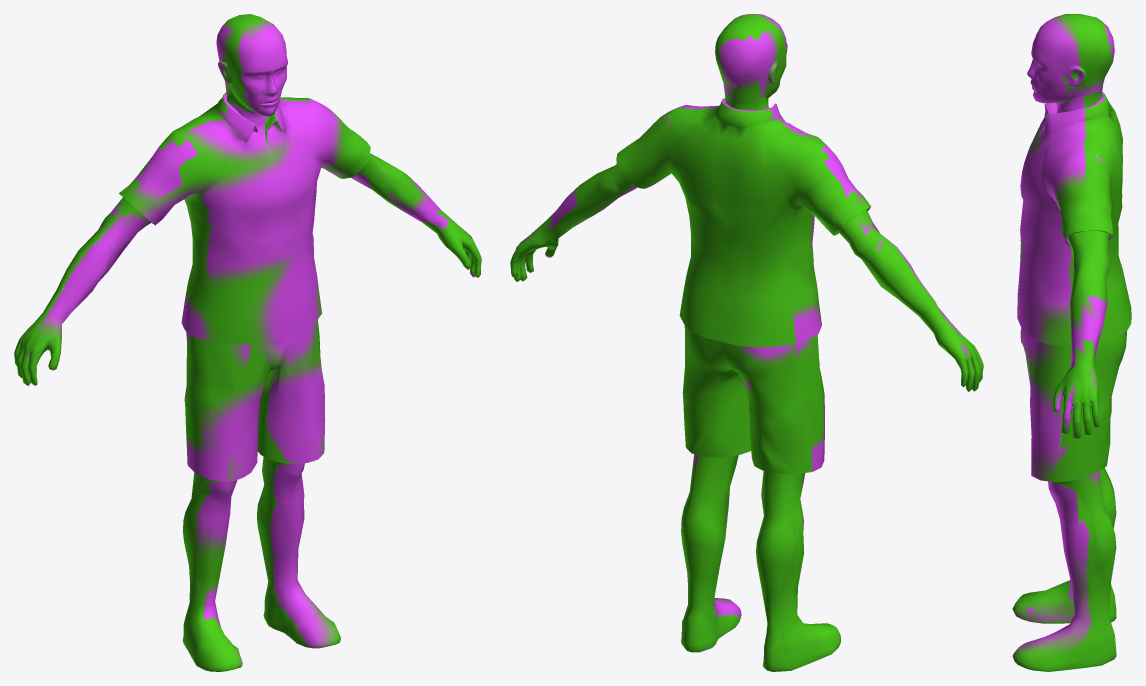
Rendered from personaje.fbx.
3 views of the same model, side by side, from view 1: azimuth 30°, elevation 25°; view 2: azimuth 150°, elevation 25°; view 3: azimuth 270°, elevation 25° (orthographic).
Visible parts, largest first — view 1: 1LyQc4imATBNuXQOo_2zv4M3MjjWFkZ08; view 2: 1LyQc4imATBNuXQOo_2zv4M3MjjWFkZ08; view 3: 1LyQc4imATBNuXQOo_2zv4M3MjjWFkZ08.
Part boxes in pixels (bbox=[...]): 1LyQc4imATBNuXQOo_2zv4M3MjjWFkZ08: bbox=[14, 14, 481, 671]; 1LyQc4imATBNuXQOo_2zv4M3MjjWFkZ08: bbox=[510, 14, 983, 671]; 1LyQc4imATBNuXQOo_2zv4M3MjjWFkZ08: bbox=[1012, 14, 1131, 671].
Bounding box in the file's own units: 13987 × 18190 × 3152.
1 material, 1 textured.
